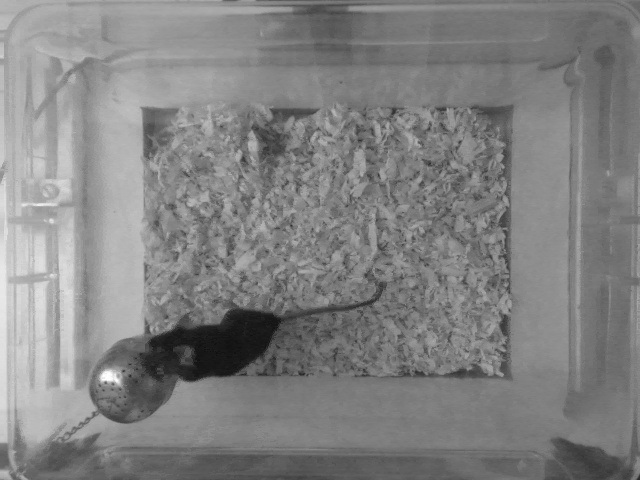mice: (146, 280, 384, 382)
